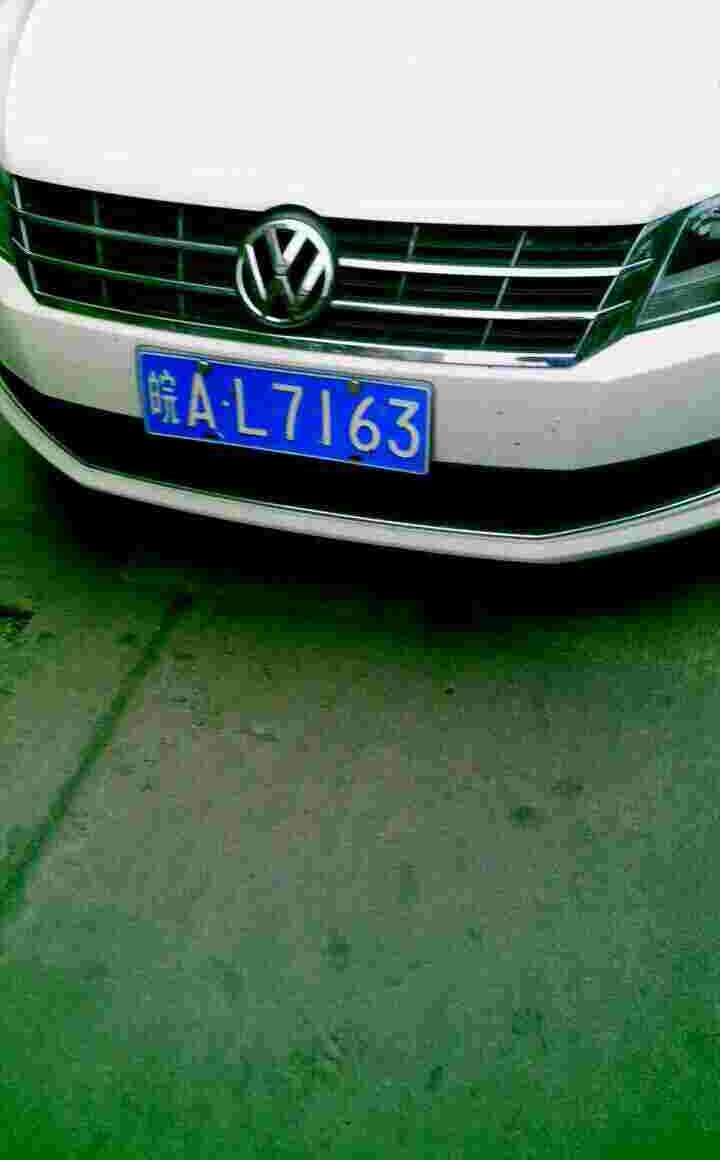license_plate: (128, 340, 433, 481)
